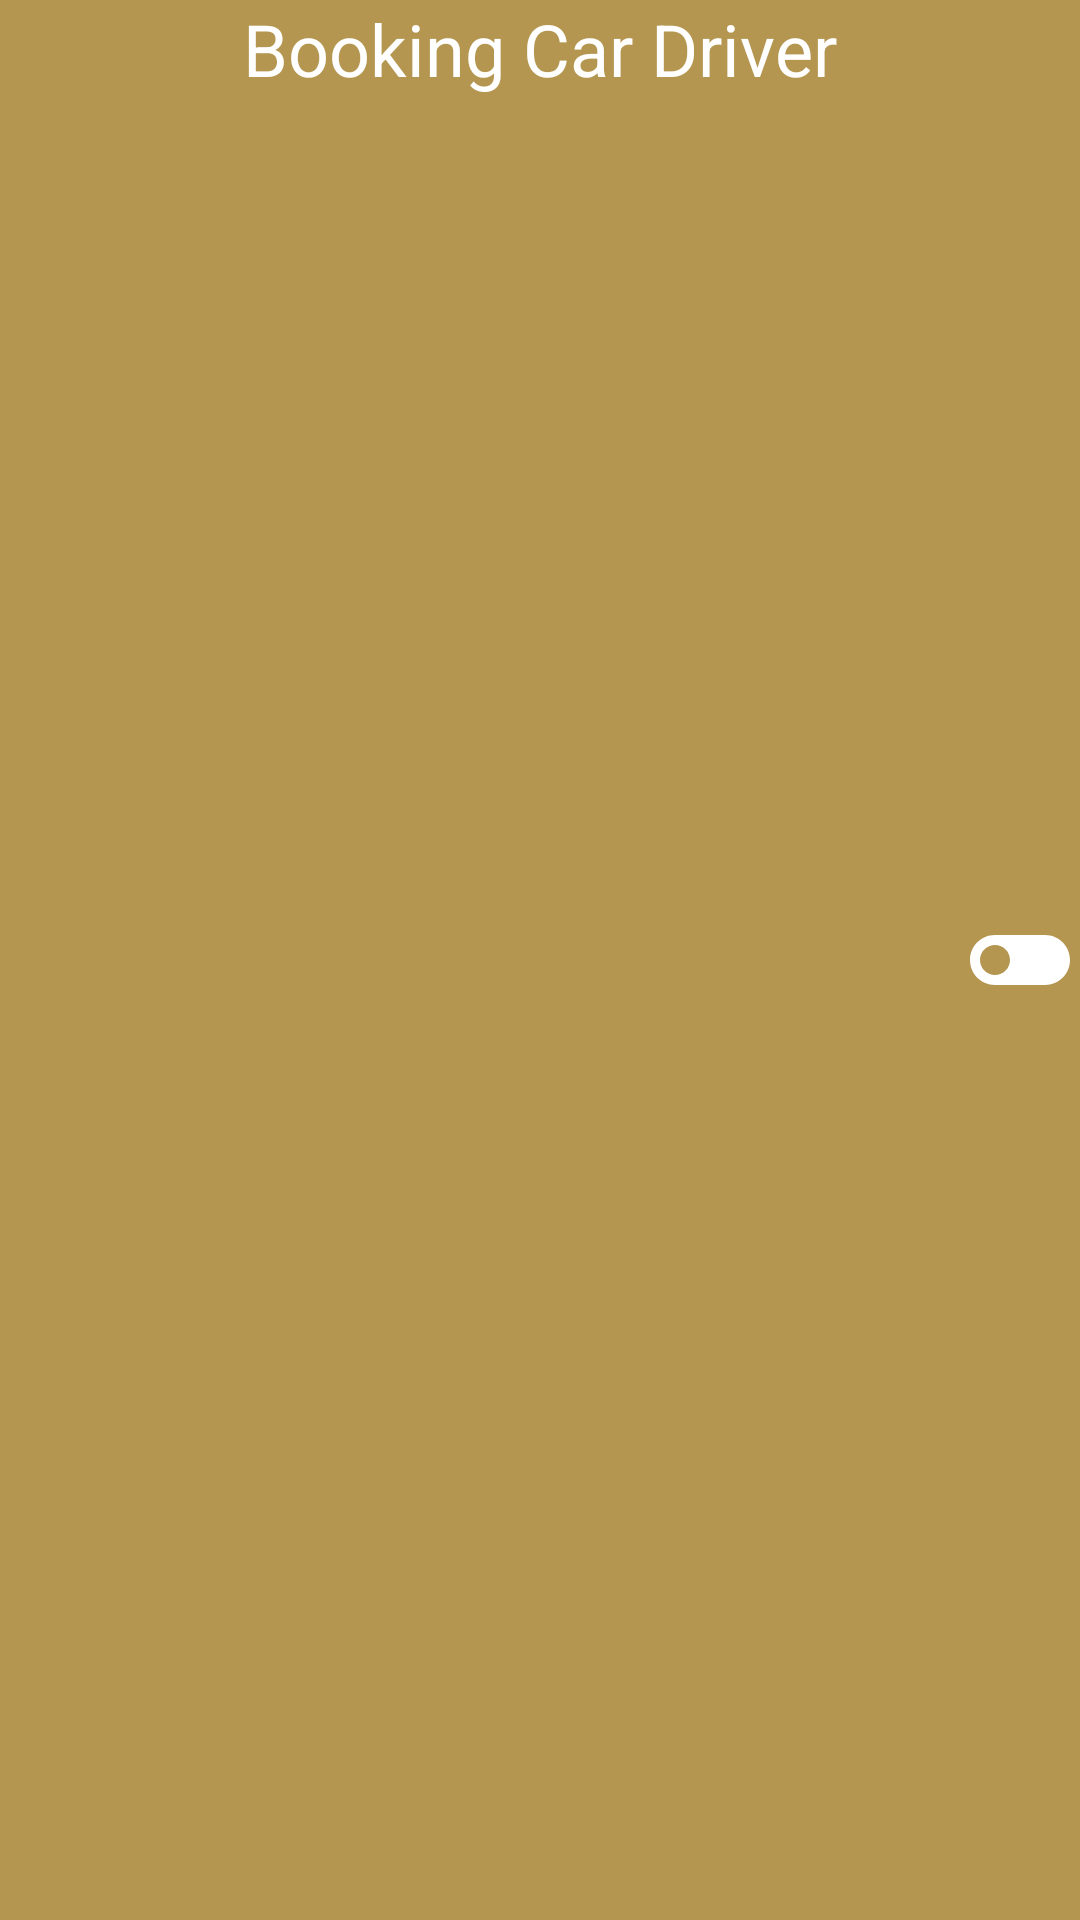

Icon click points for this 1080w x 1920h phone screenshot, format (x,y):
toggle off: (1020,960)
